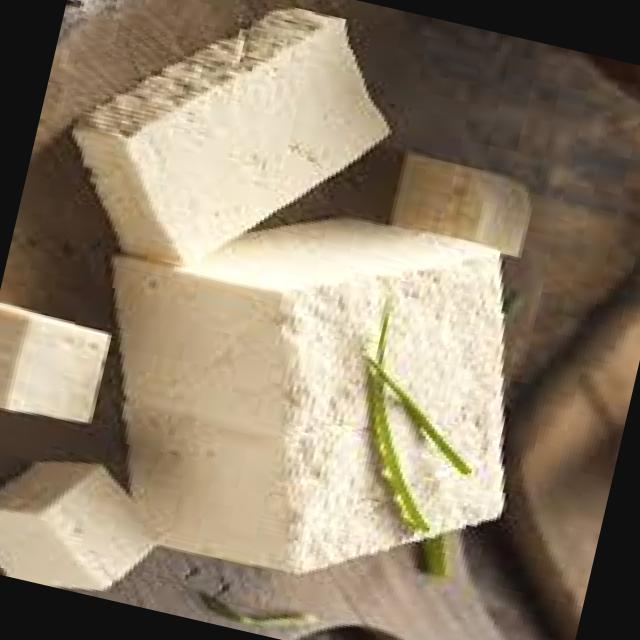tof: (54, 142, 550, 640), (16, 0, 454, 361)
